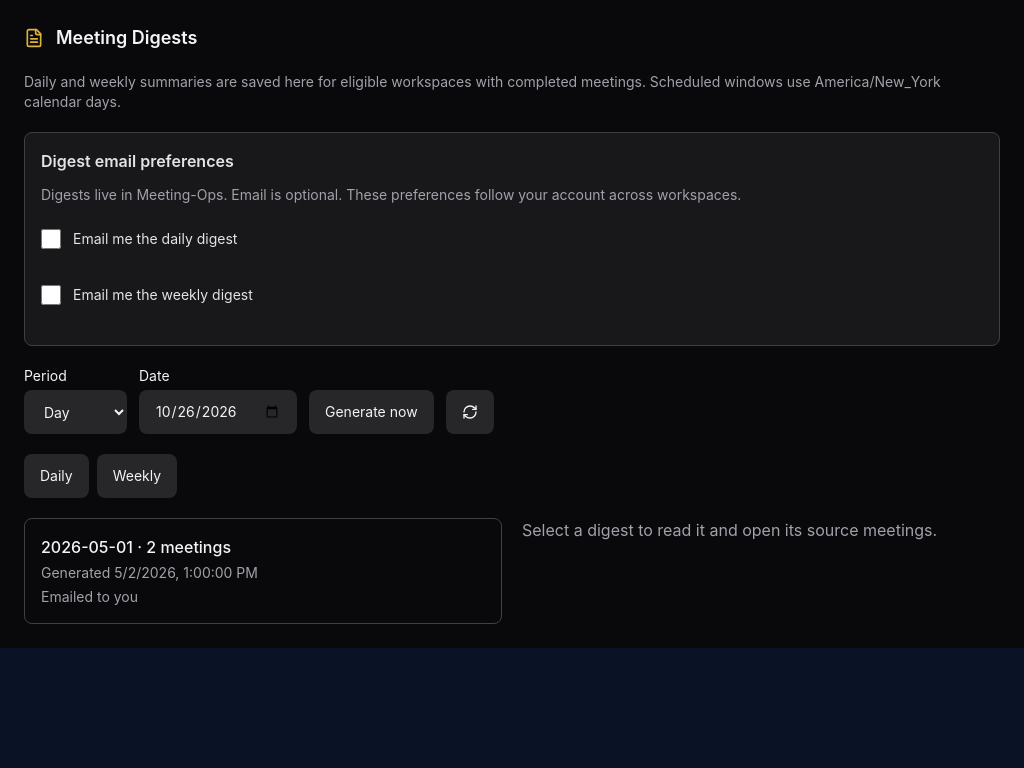
Digests › explains the generation tier gate while keeping stored history available
Expected: the heading "Meeting Digests" is shown, [24,27,197,48]
Click the button "Generate now" at (371, 412), box [309,390,434,434]
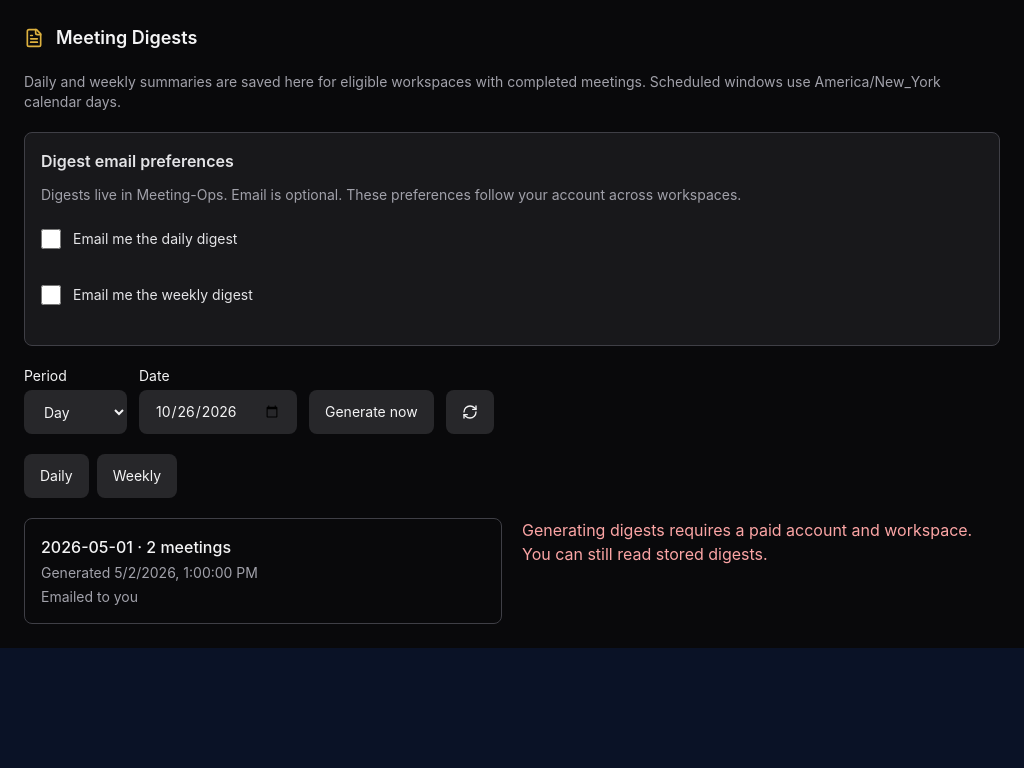
Expected: the button that starts with "2026-05-01 · 2 meetings" is shown, [24,518,502,624]
Expected: the text "Generating digests requires a paid account and workspace" is shown, [522,520,972,564]
